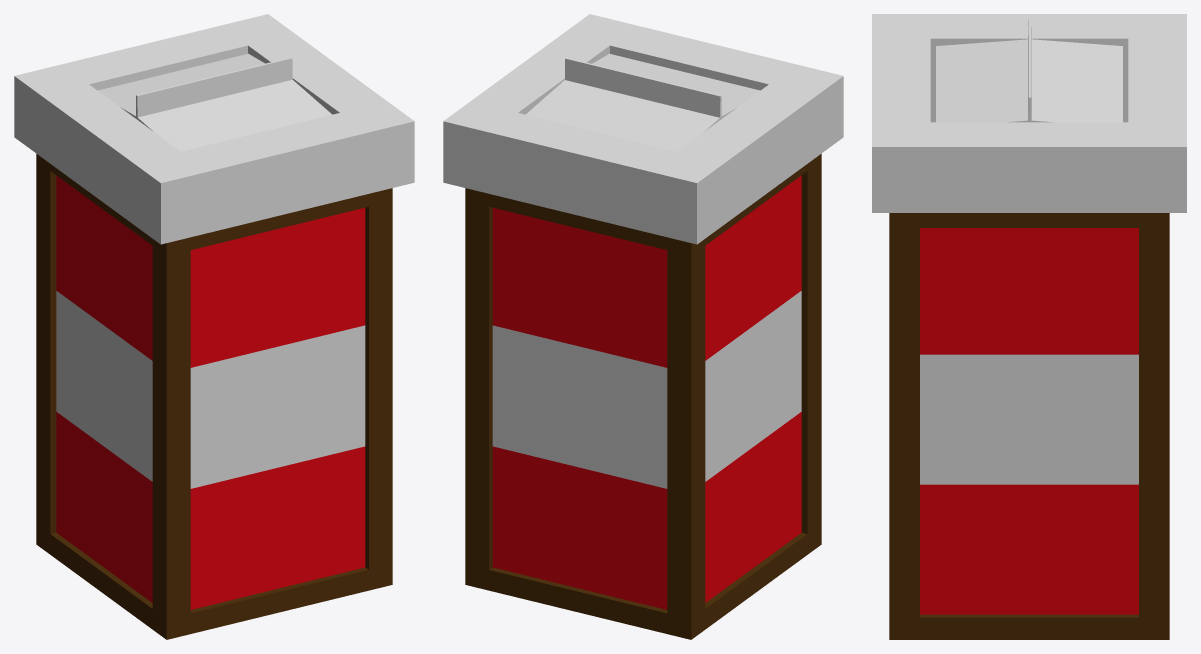
File: TrashCan.fbx
3 renders of one model, left to right at view 1: azimuth 30°, elevation 25°; view 2: azimuth 150°, elevation 25°; view 3: azimuth 270°, elevation 25°, orthographic. The views are drawn at different scales.
Visible parts, largest first — view 1: Bin; view 2: Bin; view 3: Bin.
Boxes of the visible parts, <box> form: Bin: <box>14,14,414,639</box>; Bin: <box>443,14,843,639</box>; Bin: <box>872,14,1186,639</box>.
Size of the model in its own units: 65.8 by 121 by 65.8.
